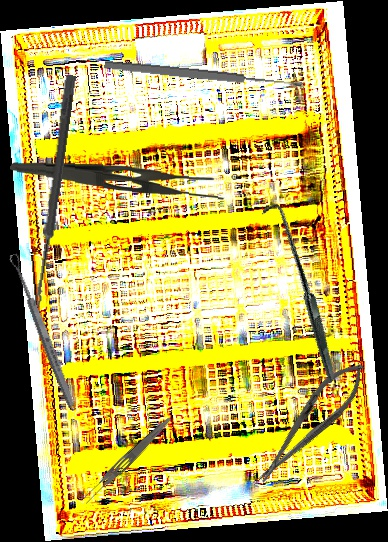Dressing Forceps: (9, 161, 226, 203), (79, 412, 174, 507)
Hook Surgical: (211, 200, 388, 384)
Needle Holder: (246, 352, 375, 493)
Surgical Spoon: (8, 252, 77, 409), (31, 74, 77, 308), (103, 58, 303, 92)
